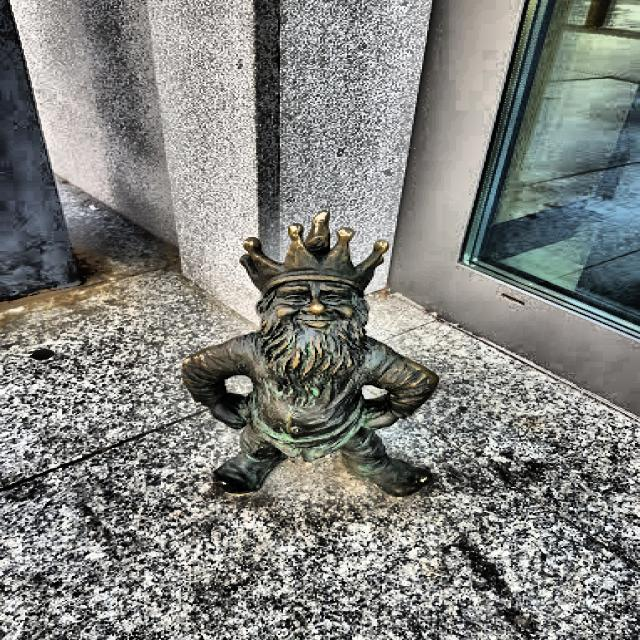Koronus: (183, 211, 441, 498)
